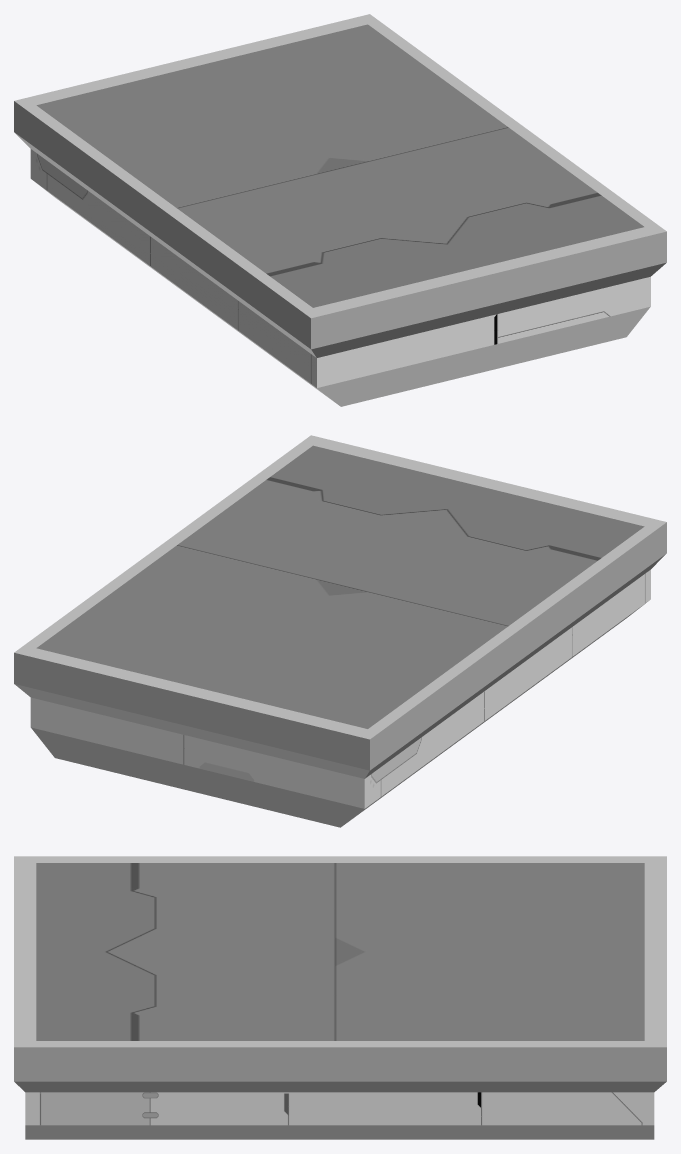
File: SM_PlatformS_2.fbx
3 views of the same model, one above another, from view 1: azimuth 30°, elevation 25°; view 2: azimuth 150°, elevation 25°; view 3: azimuth 270°, elevation 25° (orthographic). The views are drawn at different scales.
Parts seen in each view (by area): view 1: SM_PlatformS_2; view 2: SM_PlatformS_2; view 3: SM_PlatformS_2.
Part boxes in pixels (x1=…): SM_PlatformS_2: x1=14, y1=14, x2=666, y2=406; SM_PlatformS_2: x1=14, y1=435, x2=666, y2=827; SM_PlatformS_2: x1=14, y1=856, x2=666, y2=1139.
Bounding box in the file's own units: 140 × 37.95 × 202.
